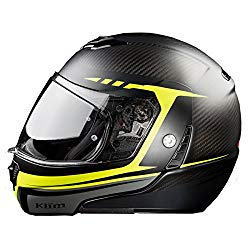with_helmet: (3, 28, 244, 223)
